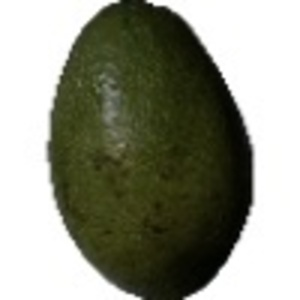abacate: (42, 1, 255, 296)
